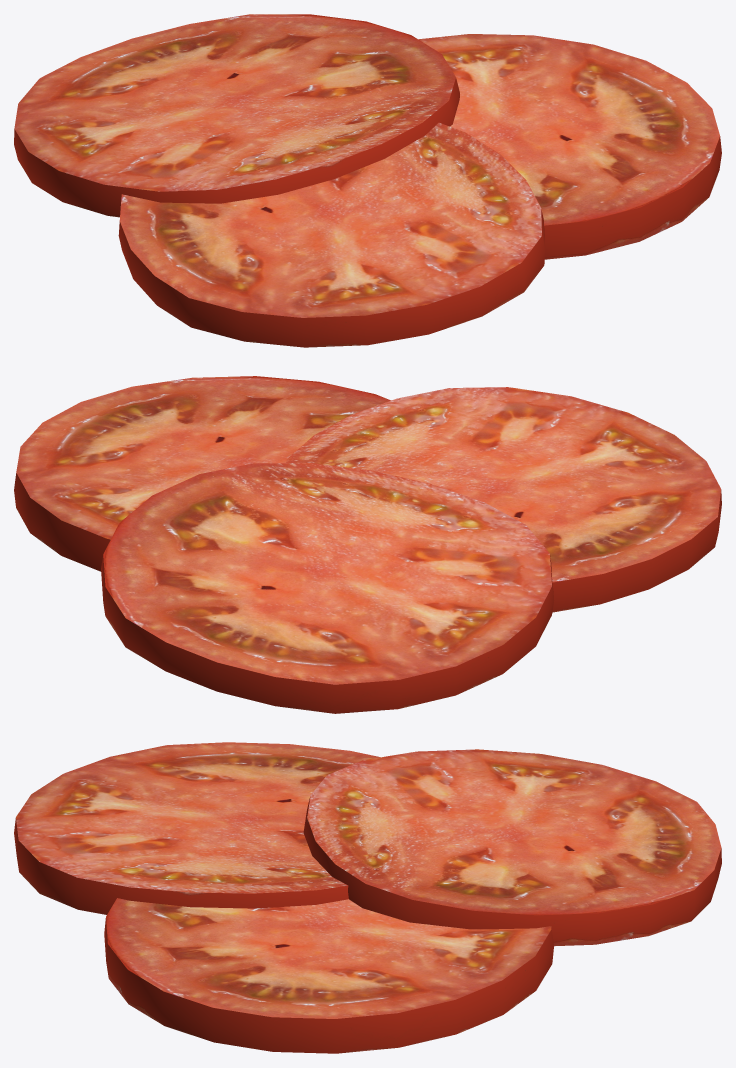
Rendered from tomato.glb.
3 views of the same model, one above another, from view 1: azimuth 30°, elevation 25°; view 2: azimuth 150°, elevation 25°; view 3: azimuth 270°, elevation 25° (orthographic).
Visible parts, largest first — view 1: tomatoN3; view 2: tomatoN3; view 3: tomatoN3.
Part boxes in pixels (<box>): tomatoN3: <box>14,14,721,347</box>; tomatoN3: <box>14,376,721,713</box>; tomatoN3: <box>14,742,721,1053</box>.
Size of the model in its own units: 0.0887 by 0.00988 by 0.0917.
1 material, 1 textured.
